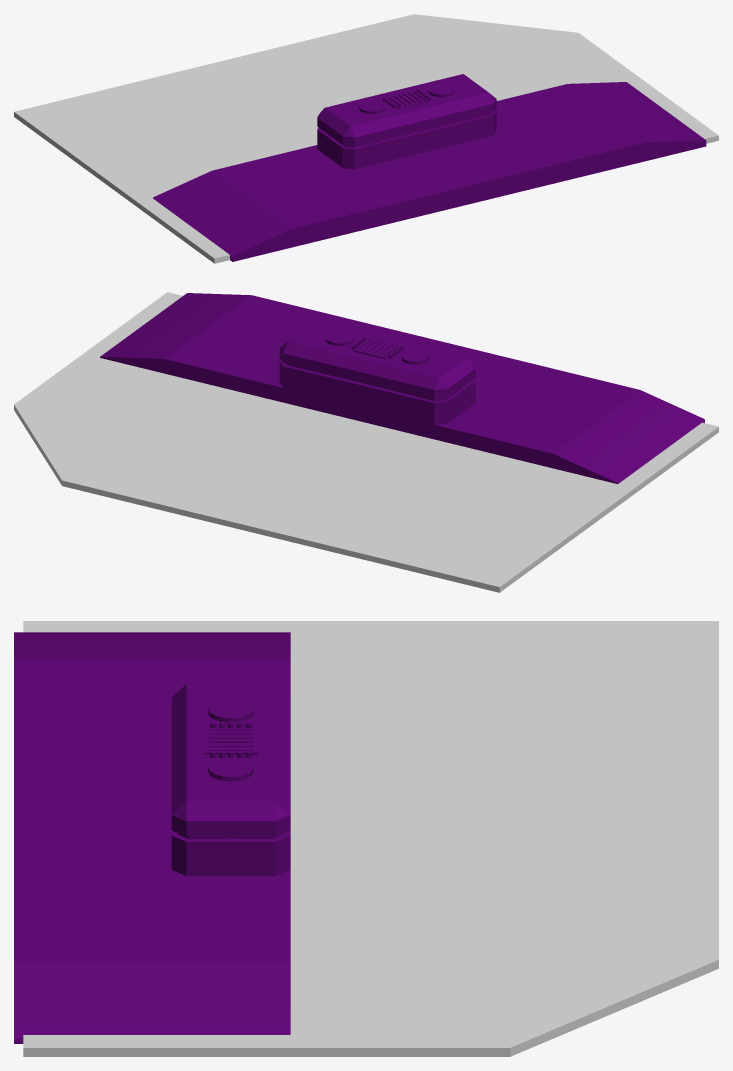
Rendered from BGModel_Floor.fbx.
The picture shows the model from 3 angles, top to bottom: view 1: azimuth 30°, elevation 25°; view 2: azimuth 150°, elevation 25°; view 3: azimuth 270°, elevation 25°; orthographic projection. The views are drawn at different scales.
Visible parts, largest first — view 1: pCube208; view 2: pCube208; view 3: pCube208.
Boxes of the visible parts, x1,y1,x2,y2 form: pCube208: [14, 14, 718, 263]; pCube208: [14, 292, 718, 592]; pCube208: [14, 621, 718, 1056].
Bounding box in the file's own units: 213 × 24.7 × 149.
